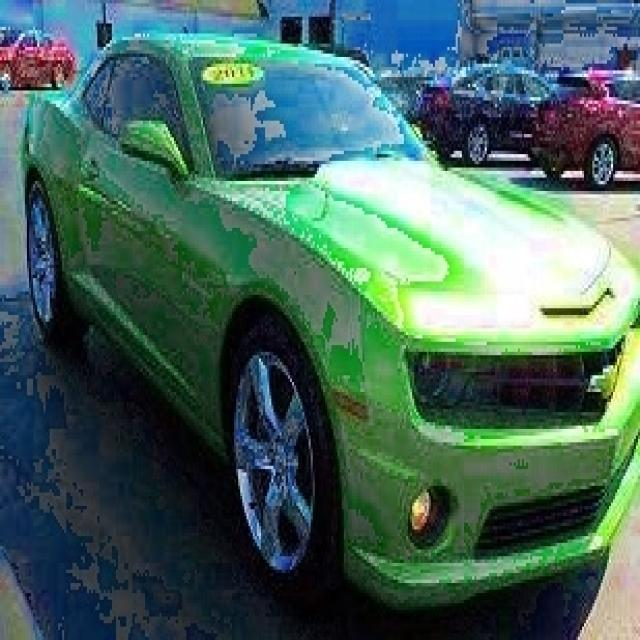green: (23, 39, 640, 612)
